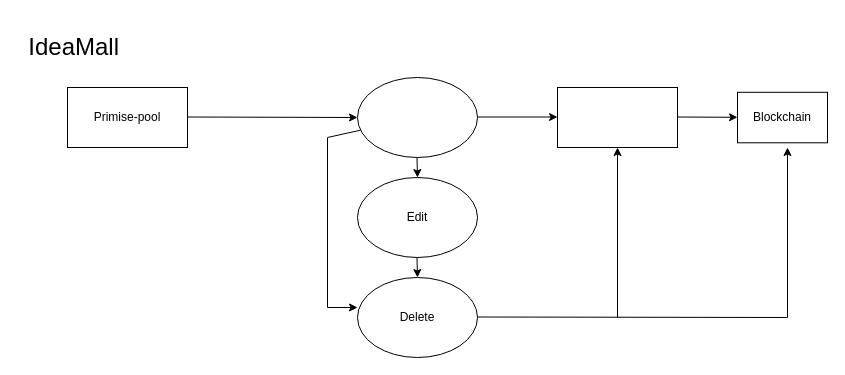
The diagram is 845 pixels wide and 375 high, and some of its shapes have lost their labels. Here are the shapes that lost their labels. From the top down, the box of each, then its label:
(356, 76, 478, 158): Post
(556, 86, 678, 148): IPFS
